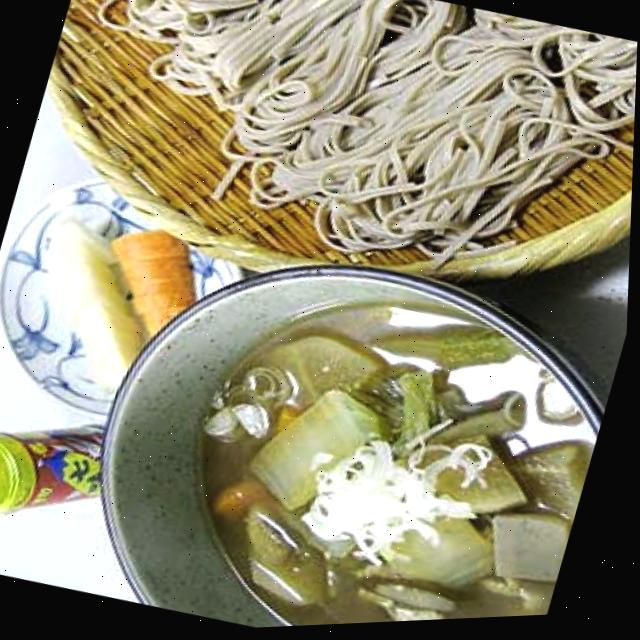蔬菜料理: (67, 221, 633, 637)
面条主食: (12, 0, 640, 348)
